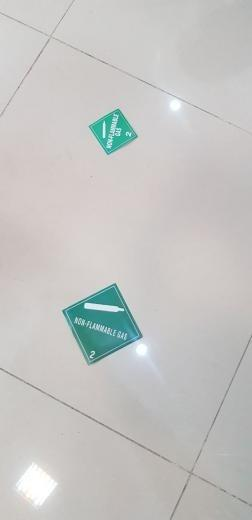non-flammable-gas: (63, 283, 143, 365), (90, 108, 138, 155)
